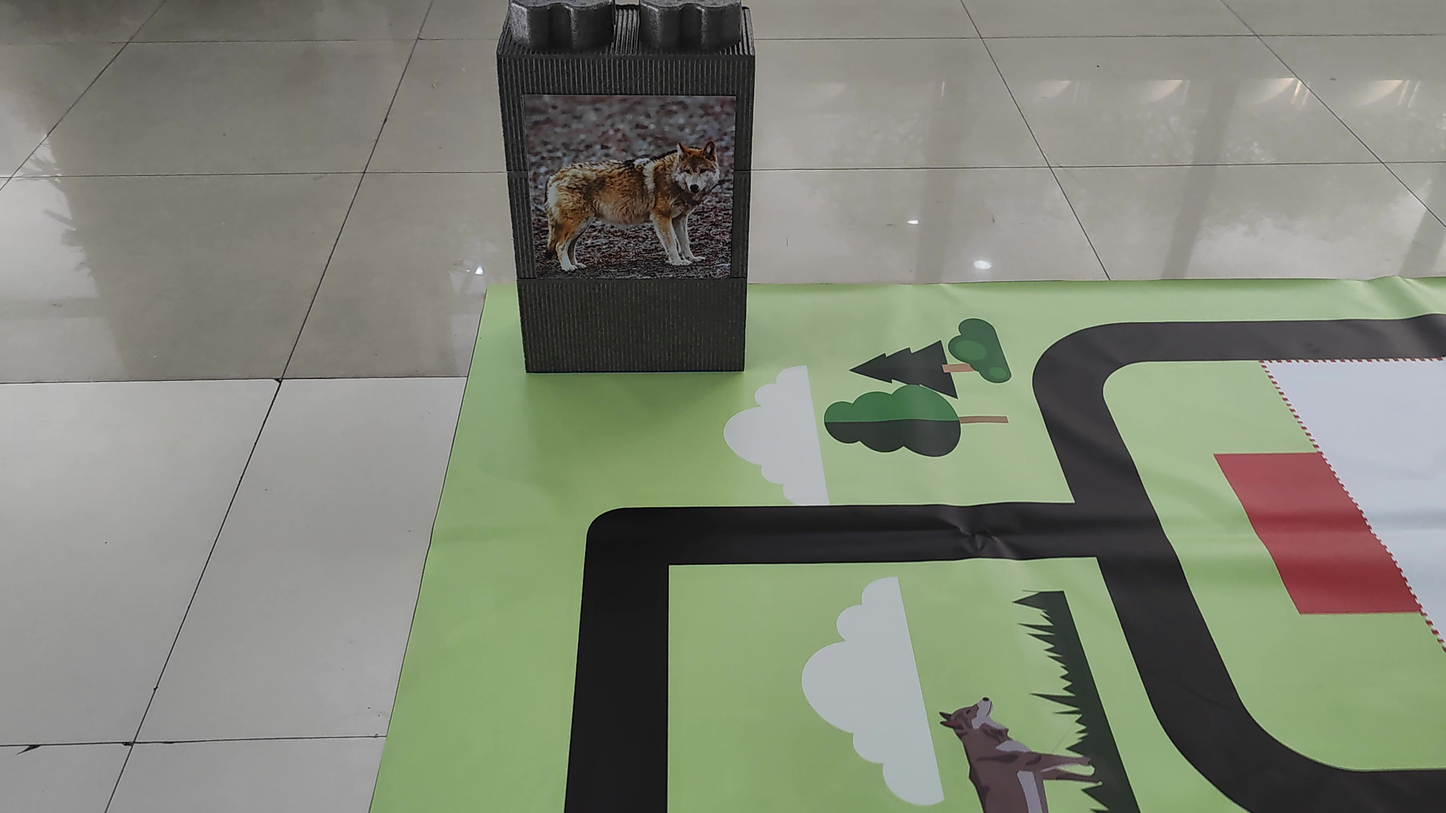wolf: (535, 96, 731, 283)
